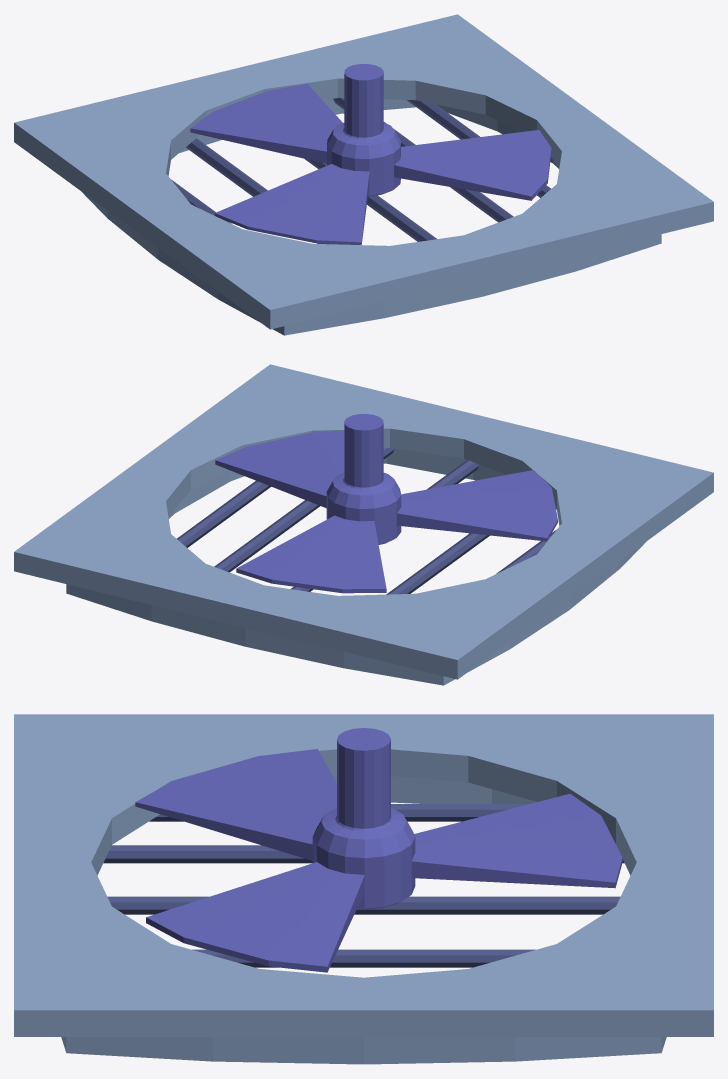
The model's file is RoomFan.glb.
3 views of the same model, one above another, from view 1: azimuth 30°, elevation 25°; view 2: azimuth 150°, elevation 25°; view 3: azimuth 270°, elevation 25° (orthographic). The views are drawn at different scales.
Parts seen in each view (by area): view 1: Fan, Fan.001; view 2: Fan, Fan.001; view 3: Fan, Fan.001.
Boxes of the visible parts, bbox=[...] form: Fan: bbox=[14, 14, 713, 335]; Fan.001: bbox=[190, 64, 551, 244]; Fan: bbox=[14, 364, 713, 685]; Fan.001: bbox=[215, 414, 557, 593]; Fan: bbox=[14, 714, 713, 1064]; Fan.001: bbox=[135, 728, 622, 972].
Size of the model in its own units: 4.66 by 1.38 by 4.66.
